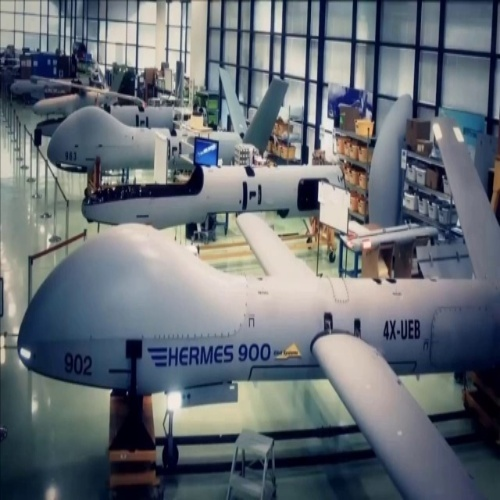uav754: (14, 117, 497, 500), (45, 67, 287, 165)
